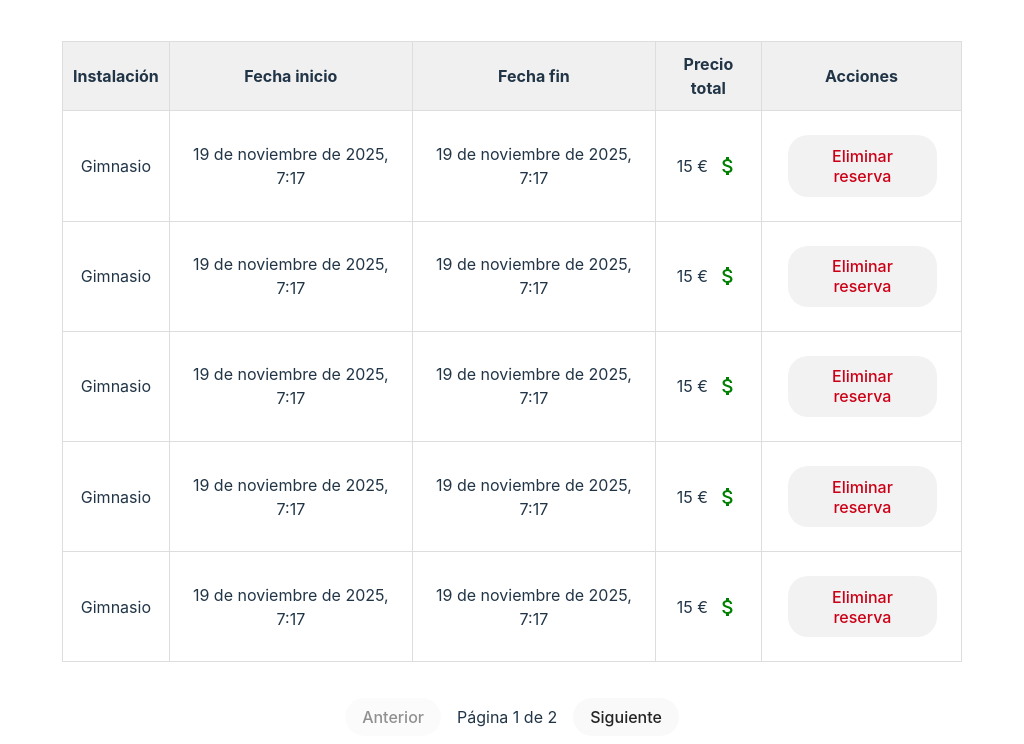
Test: MyReservations Component › Pagination › enables 'Anterior' button when not on first page
(page scrolled)
Click the button "Siguiente" at point(626, 717), box [573,698,679,736]
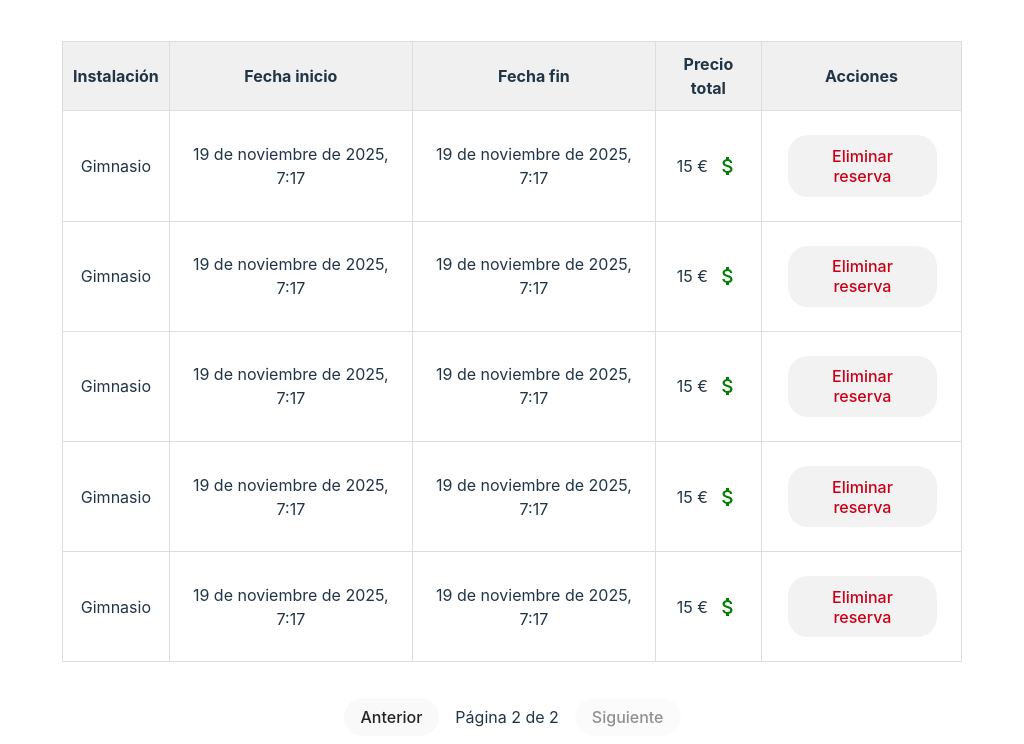
Result: the button "Anterior" is enabled at [344,698,439,736]
